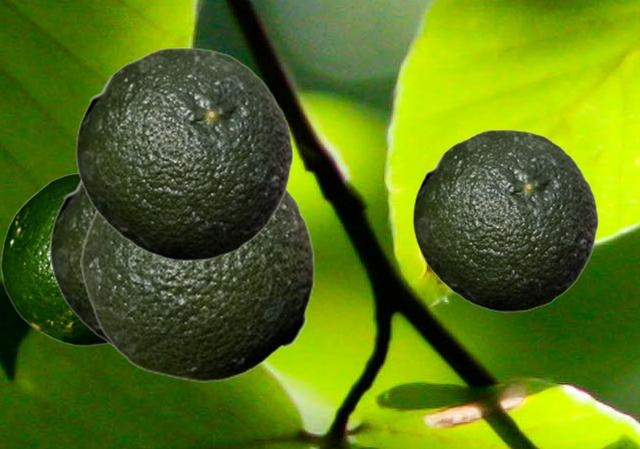calamansi: (75, 47, 293, 260), (80, 187, 314, 381), (412, 129, 598, 311), (0, 172, 108, 345), (49, 180, 113, 348)
